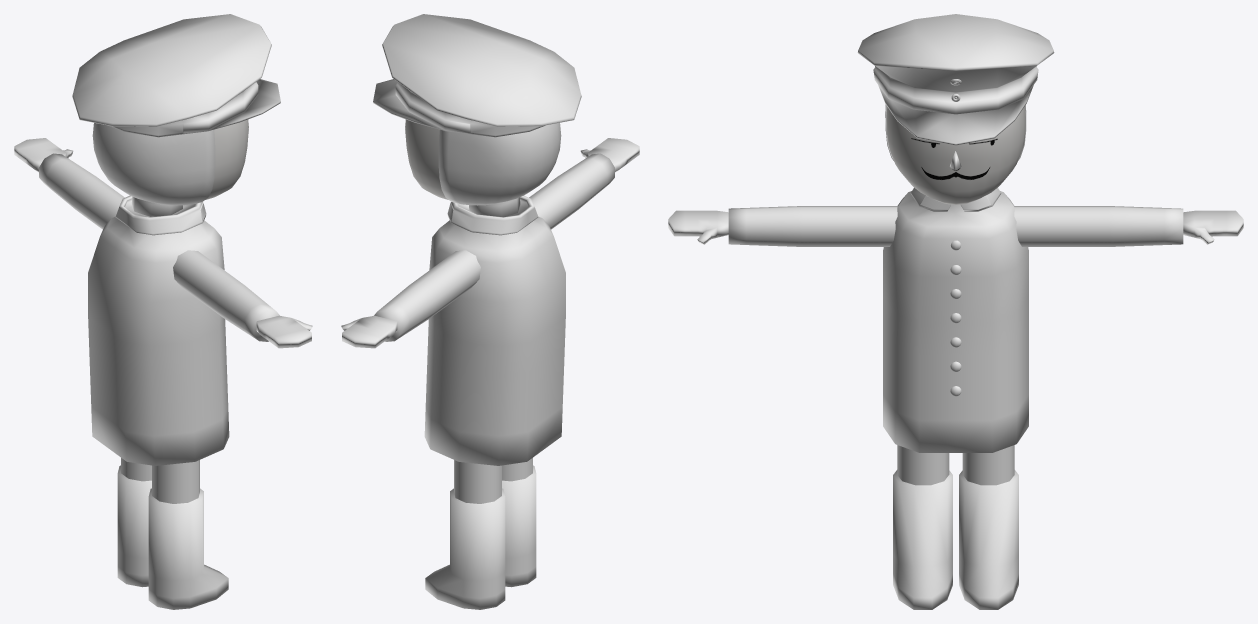
Rendered from GER_Officer.fbx.
3 renders of one model, left to right at view 1: azimuth 30°, elevation 25°; view 2: azimuth 150°, elevation 25°; view 3: azimuth 270°, elevation 25°, orthographic. The views are drawn at different scales.
Parts seen in each view (by area): view 1: Body.002, Hat.001, Coat, Shoe.001, Hands.002, Shoe.004, Hands.001, Palms.002, Head.002, Collar.002, Legs.001, Circle.001 (+1 smaller); view 2: Body.002, Hat.001, Coat, Shoe.004, Hands.001, Shoe.001, Hands.002, Palms.002, Head.002, Collar.002, Legs.004, Circle.001 (+1 smaller); view 3: Body.002, Hat.001, Shoe.001, Shoe.004, Head.002, Hands.001, Hands.002, Palms.002, Legs.001, Legs.004, Collar.002.
Part boxes in pixels (x1,y1,x2,y2): Body.002: (88, 216, 229, 465); Hat.001: (72, 14, 280, 137); Coat: (92, 123, 215, 205); Shoe.001: (148, 488, 228, 609); Hands.002: (173, 250, 279, 341); Shoe.004: (117, 465, 151, 587); Hands.001: (39, 153, 124, 229); Palms.002: (14, 138, 312, 348); Head.002: (205, 119, 248, 199); Collar.002: (115, 195, 206, 235); Legs.001: (152, 460, 199, 503); Circle.001: (131, 196, 182, 216); Body.002: (424, 216, 565, 465); Hat.001: (373, 14, 581, 137); Coat: (438, 123, 561, 205); Shoe.004: (425, 488, 505, 609); Hands.001: (374, 250, 480, 341); Shoe.001: (502, 465, 536, 587); Hands.002: (529, 153, 614, 229); Palms.002: (341, 138, 639, 348); Head.002: (405, 119, 448, 199); Collar.002: (447, 195, 538, 235); Legs.004: (454, 460, 501, 503); Circle.001: (469, 197, 520, 217); Body.002: (883, 191, 1028, 452); Hat.001: (857, 14, 1054, 145); Shoe.001: (893, 470, 952, 609); Shoe.004: (959, 470, 1018, 609); Head.002: (886, 107, 1025, 204); Hands.001: (1014, 206, 1183, 246); Hands.002: (728, 206, 897, 246); Palms.002: (668, 210, 1243, 244); Legs.001: (897, 445, 949, 485); Legs.004: (962, 445, 1014, 485); Collar.002: (910, 187, 1001, 211).
Bounding box in the file's own units: 291 × 755 × 692.
